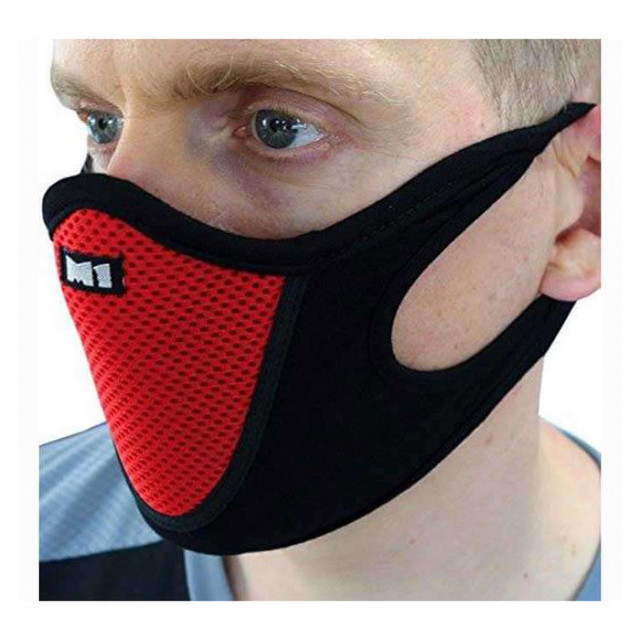mask: (43, 185, 505, 522)
